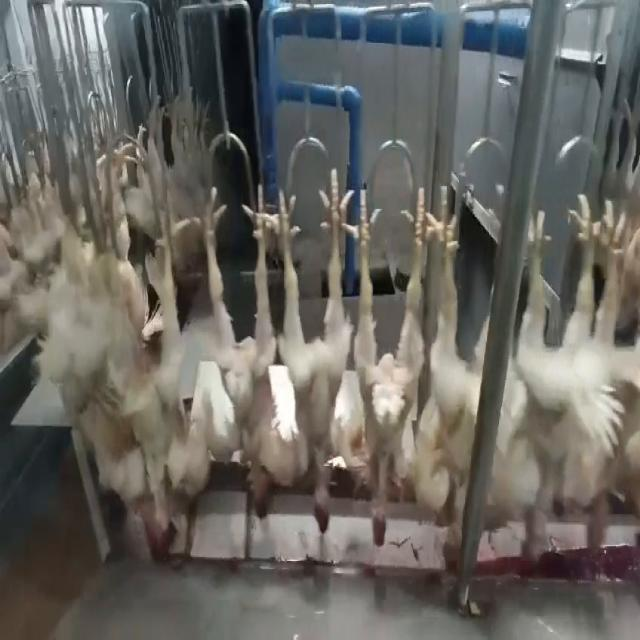chicken: (344, 189, 436, 553), (506, 203, 594, 563), (282, 163, 354, 537), (120, 168, 188, 560), (206, 187, 282, 517), (417, 176, 480, 570), (569, 216, 634, 557)
